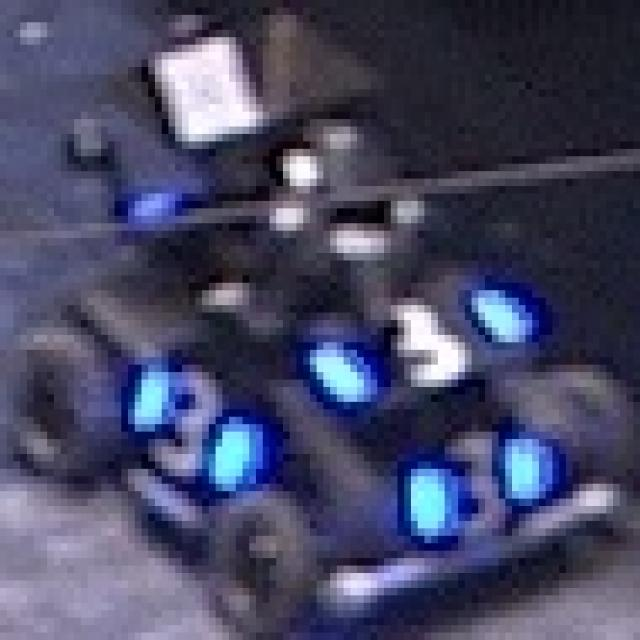B3: (290, 275, 539, 402), (398, 424, 546, 558), (128, 357, 263, 499)
